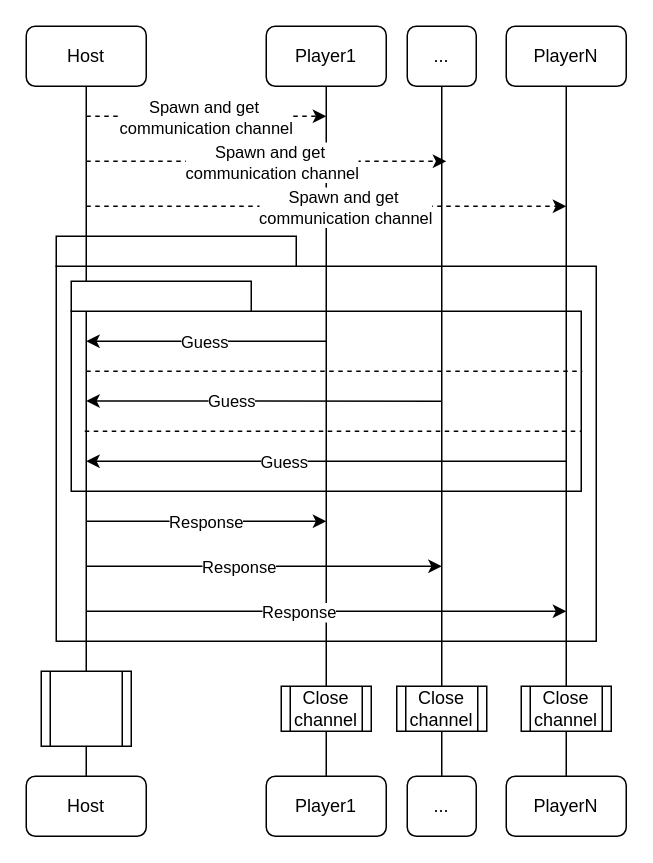
Image size: 653x863. Some labels were removed from this diagram. Here are the shapes that lost their labels. From the top down, the box of each, then its label:
(55, 235, 296, 266): Loop [Until there is a winner]
(70, 280, 251, 311): Parallel
(40, 670, 131, 746): Wait all channel closure
